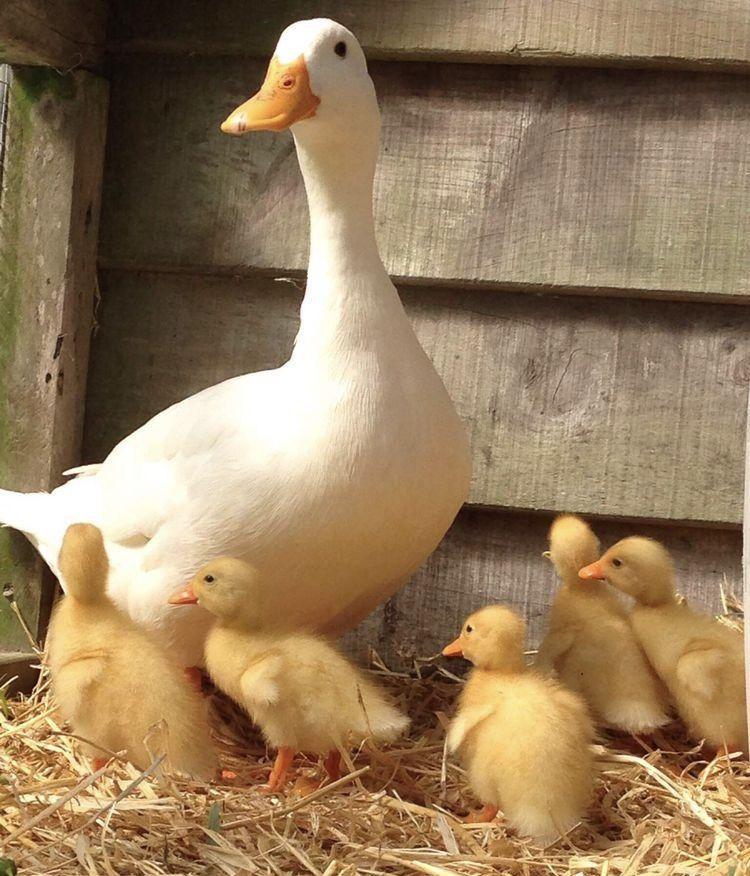duckling: (170, 558, 408, 791), (47, 524, 215, 778), (579, 536, 747, 751), (443, 605, 592, 844), (535, 515, 668, 733)
toucan: (0, 19, 469, 664), (221, 19, 377, 134)
